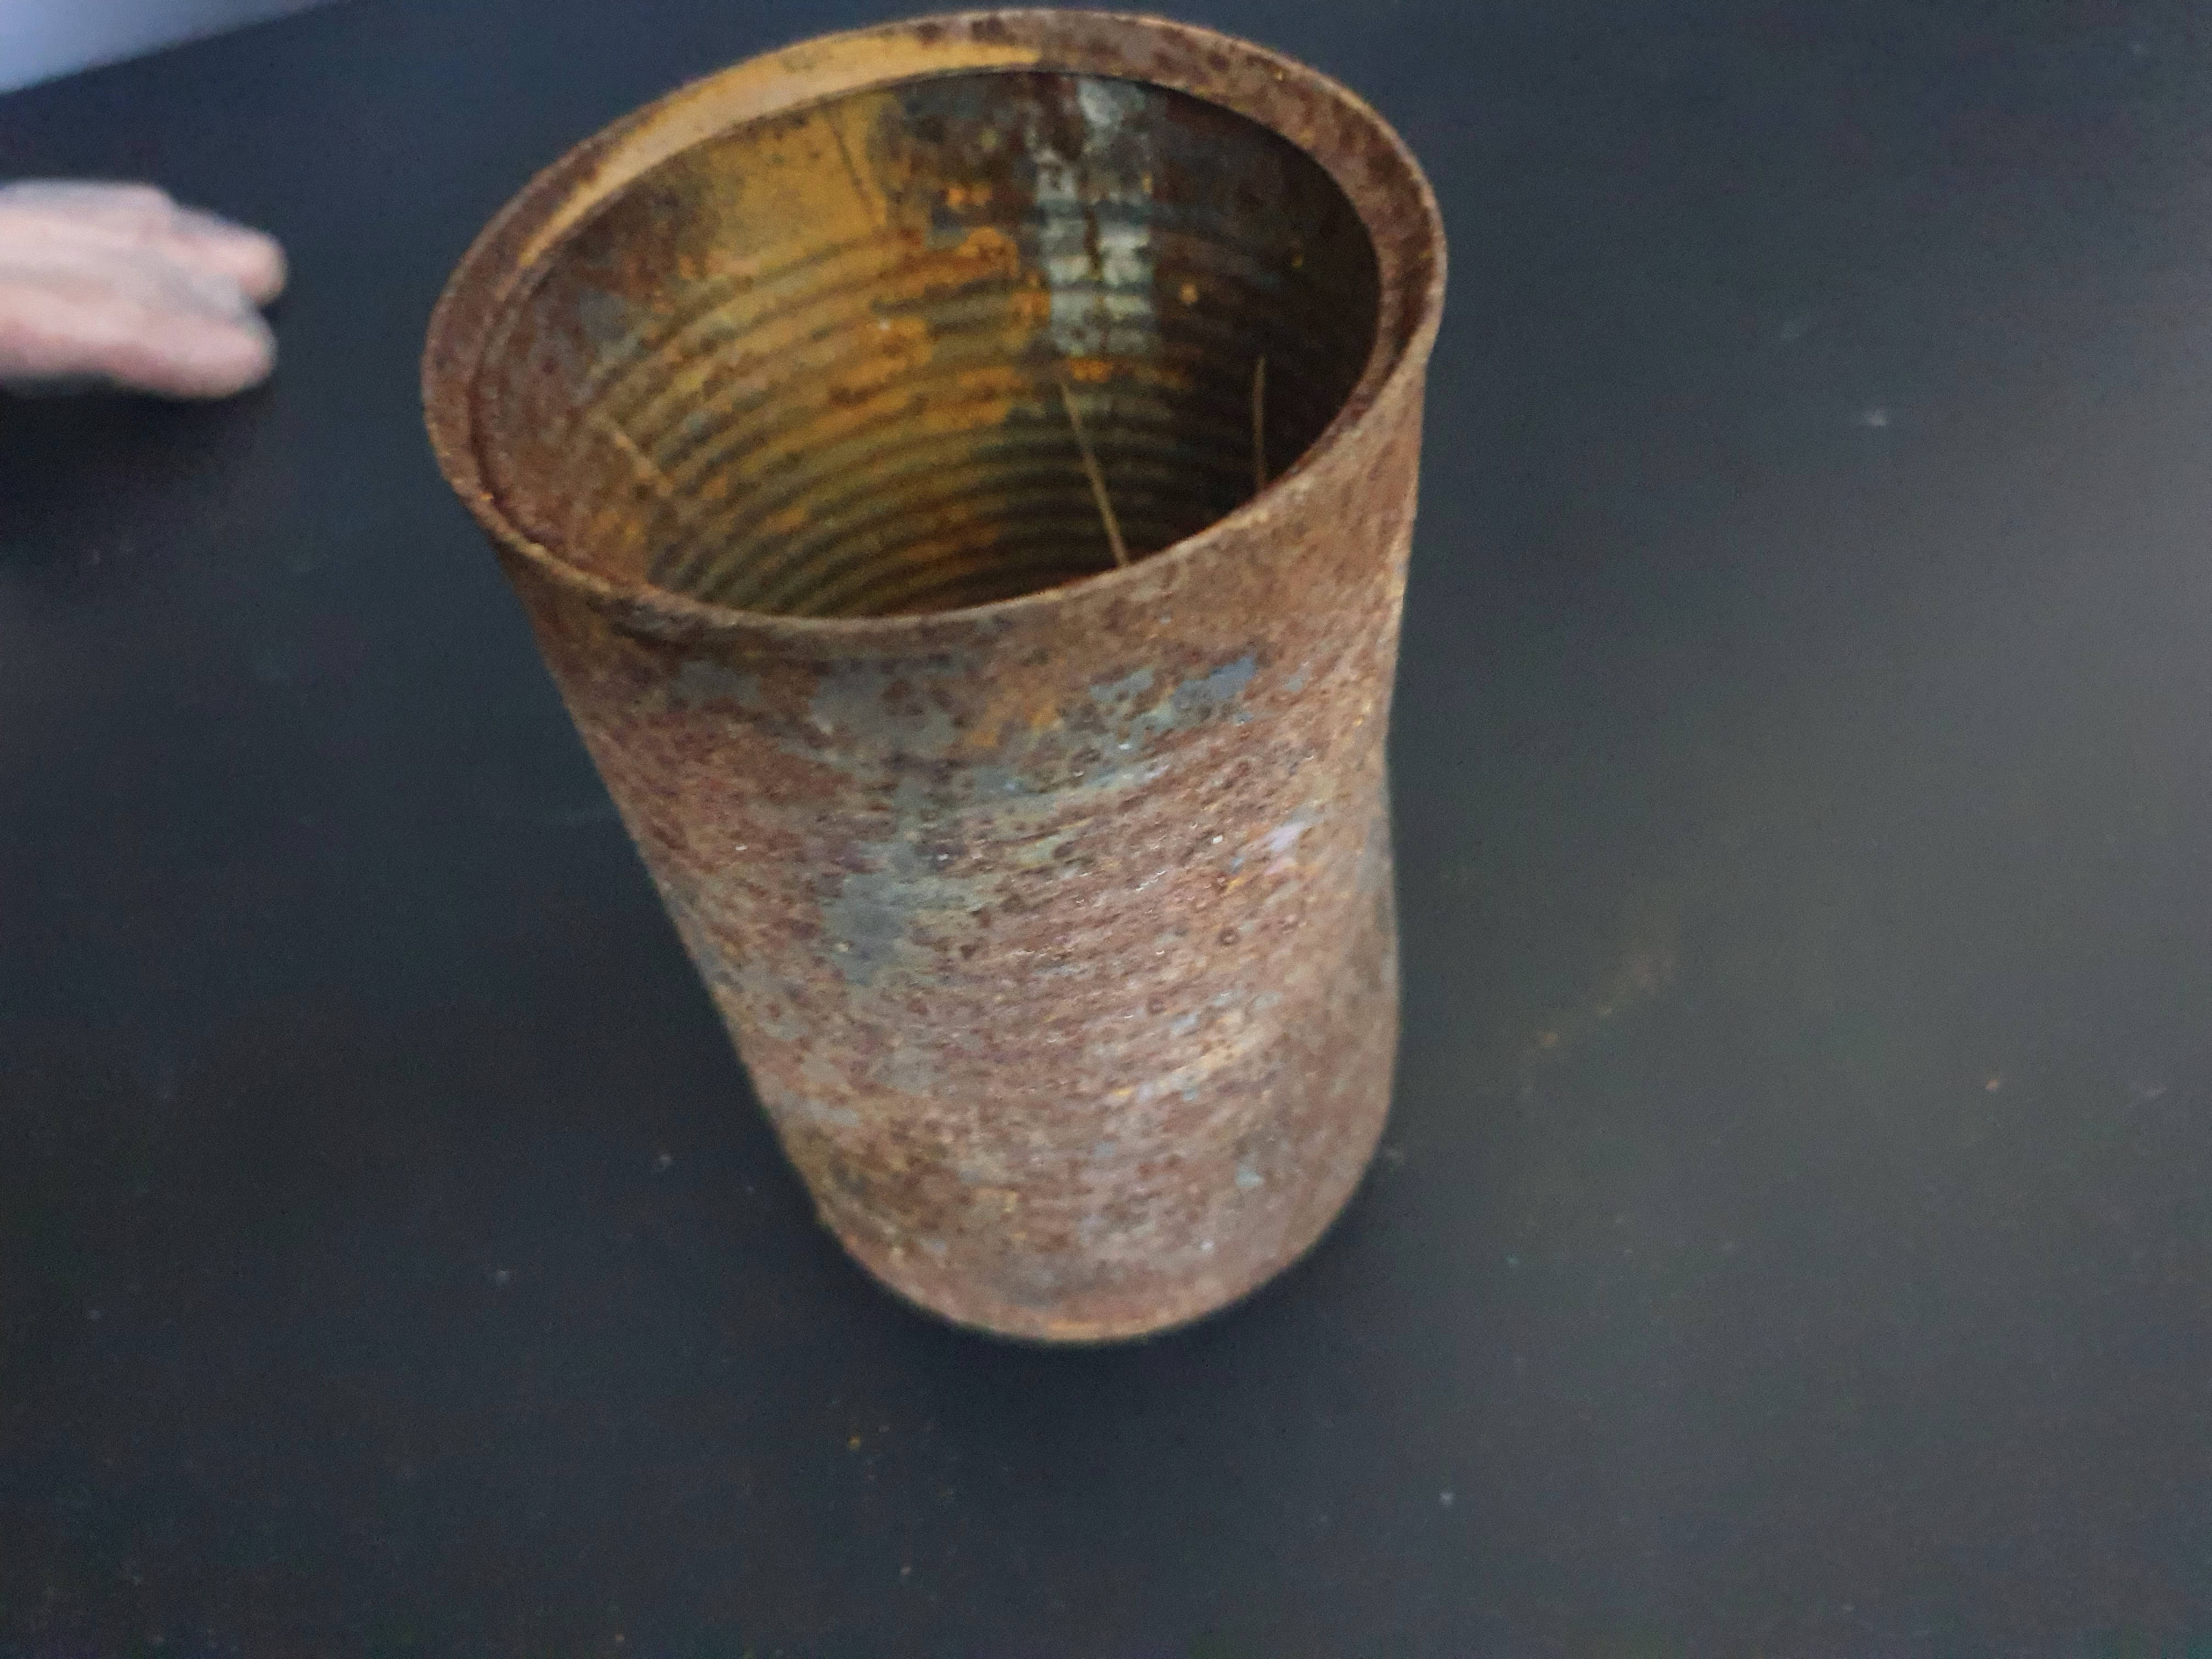metal: (402, 0, 1489, 1422)
